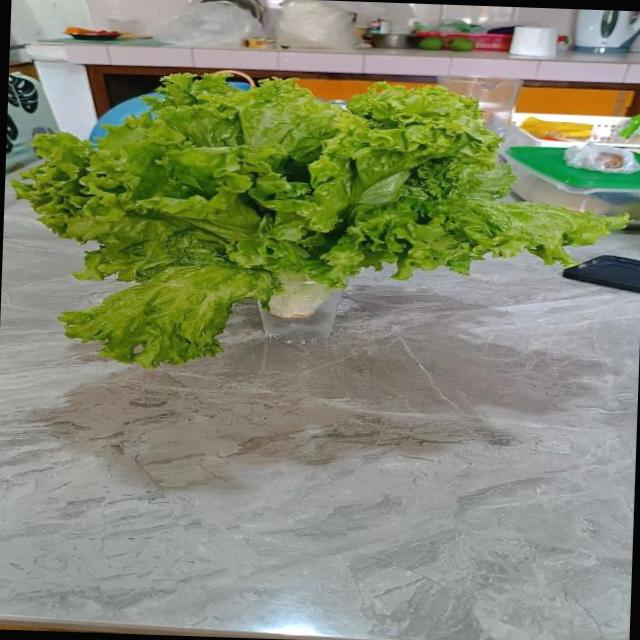Lettuce-Ready-to-Harvest: (13, 74, 626, 366)
